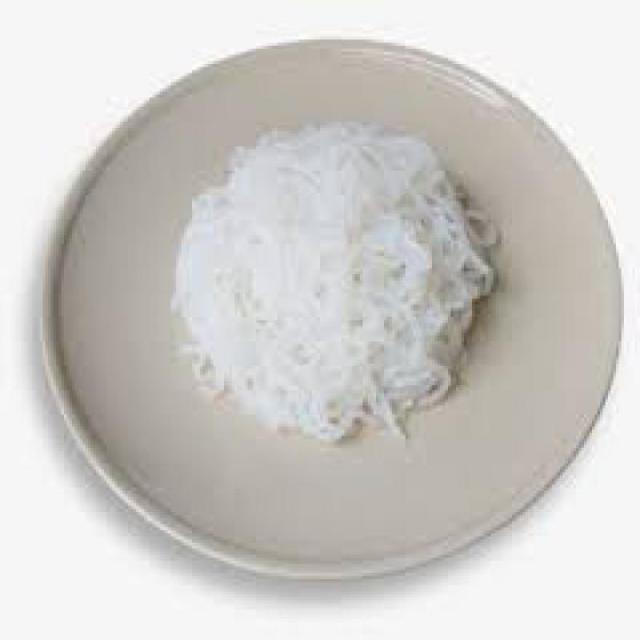nasi_putih: (170, 127, 492, 444)
